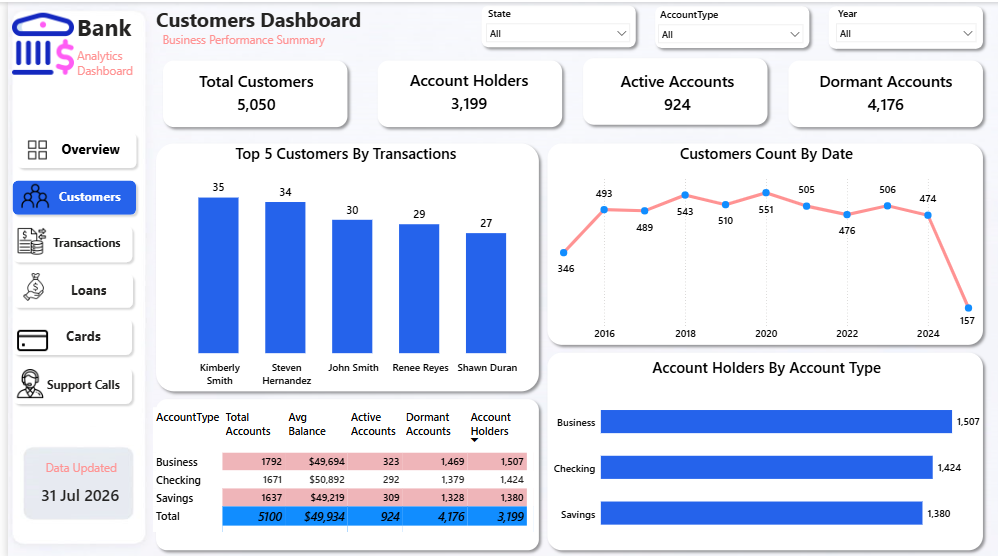

What the dashboard file says about the page in this screenshot:
{"tool":"powerbi","page":{"name":"Customers","canvas":[1600,900],"ordinal":1},"visuals":[{"type":"cardVisual","fields":{"Data":["Calculation Overview.Total Customers"]},"box":[248,85.5,304,118],"z":0},{"type":"shape","box":[0,504,207.3,73.4],"z":0,"group":"g6"},{"type":"cardVisual","fields":{"Data":["Customer calculation.Active Accounts"]},"box":[936,91.5,288,106],"z":1000},{"type":"image","box":[10,522.5,60,50],"z":1000,"group":"g6"},{"type":"cardVisual","fields":{"Data":["Customer calculation.Account Holders"]},"box":[586,89.5,316,110],"z":2000},{"type":"cardVisual","fields":{"Data":["Customer calculation.Dormant Accounts"]},"box":[1260,93.5,312,102],"z":3000},{"type":"barChart","title":"Account Holders By Account Type","fields":{"Y":["Customer calculation.Account Holders"],"Category":["Accounts.AccountType"]},"box":[874,572.9,698.5,309.7],"z":4000},{"type":"lineChart","title":"Customers Count By Date ","fields":{"Y":["Calculation Overview.Total Customers"],"Category":["Calender.Date.Variation.Date Hierarchy.Year","Calender.Date.Variation.Date Hierarchy.Quarter","Calender.Date.Variation.Date Hierarchy.Month","Calender.Date.Variation.Date Hierarchy.Day"]},"box":[874,228,698,328],"z":5000},{"type":"columnChart","title":"Top 5 Customers By Transactions","fields":{"Category":["customers.Full Name"],"Y":["Sum(customers.Num_trans)"]},"box":[234,228,622,400],"z":6000},{"type":"pivotTable","fields":{"Rows":["Accounts.AccountType"],"Values":["Customer calculation.Total Accounts","Customer calculation.Avg Balance","Customer calculation.Active Accounts","Customer calculation.Dormant Accounts","Customer calculation.Account Holders"]},"box":[234,644,622,238],"z":7000},{"type":"slicer","fields":{"Values":["Calender.Year"]},"box":[1326,1,246,74],"z":8000},{"type":"slicer","fields":{"Values":["Accounts.AccountType"]},"box":[1038,4,254,68],"z":9000},{"type":"slicer","fields":{"Values":["customers.State"]},"box":[762,1,252,74],"z":10000},{"type":"textbox","box":[234,0,408,86],"z":11000},{"type":"cardVisual","fields":{"Data":["Customer Service.Today"]},"box":[24,756,196,72],"z":12000},{"type":"textbox","box":[106,68,108,76],"z":13000},{"type":"textbox","box":[106,10,108,66],"z":14000},{"type":"textbox","box":[42,732,152,46],"z":15000},{"type":"group","id":"g1","title":"Group 1","box":[6,204,208,72],"z":16000},{"type":"group","id":"g2","title":"Group 1","box":[0,280,214,70],"z":17000},{"type":"group","id":"g3","title":"Group 1","box":[0,353.6,208,74],"z":18000},{"type":"group","id":"g4","title":"Group 1","box":[2,430.8,208,70],"z":19000},{"type":"group","id":"g5","title":"Group 1","box":[0,582,208,72],"z":20000},{"type":"image","box":[6,12,100,112],"z":21000},{"type":"group","id":"g6","title":"Group 2","box":[0,504,208,74],"z":22000},{"type":"shape","box":[6,204,208,72],"z":23000,"group":"g1"},{"type":"shape","box":[0,280,214,70],"z":23000,"group":"g2"},{"type":"shape","box":[0,353.6,207.8,73.9],"z":23000,"group":"g3"},{"type":"shape","box":[2,430.8,207.3,70],"z":23000,"group":"g4"},{"type":"shape","box":[0,582,207.3,73.4],"z":23000,"group":"g5"},{"type":"image","box":[19.9,217.6,53.5,44.8],"z":24000,"group":"g1"},{"type":"image","box":[19.6,290.1,48.3,44.8],"z":24000,"group":"g2"},{"type":"image","box":[13.9,362.9,48.8,46.2],"z":24000,"group":"g3"},{"type":"image","box":[14.5,437.2,52.4,44.9],"z":24000,"group":"g4"},{"type":"image","box":[11.8,592.2,49.5,47],"z":24000,"group":"g5"}]}

Visuals, with their boxes on the page's 1600x900 design canvas (x1, y1, x2, y2). These are canvas units, not pixel positions in the 998x556 screenshot, which may show the page scaled, cropped or inside an application window:
cardVisual - Calculation Overview.Total Customers: <bbox>248, 86, 552, 204</bbox>
shape: <bbox>0, 504, 207, 577</bbox>
cardVisual - Customer calculation.Active Accounts: <bbox>936, 92, 1224, 198</bbox>
image: <bbox>10, 522, 70, 572</bbox>
cardVisual - Customer calculation.Account Holders: <bbox>586, 90, 902, 200</bbox>
cardVisual - Customer calculation.Dormant Accounts: <bbox>1260, 94, 1572, 196</bbox>
"Account Holders By Account Type" barChart: <bbox>874, 573, 1572, 883</bbox>
"Customers Count By Date " lineChart: <bbox>874, 228, 1572, 556</bbox>
"Top 5 Customers By Transactions" columnChart: <bbox>234, 228, 856, 628</bbox>
pivotTable - Accounts.AccountType x Customer calculation.Total Accounts: <bbox>234, 644, 856, 882</bbox>
slicer - Calender.Year: <bbox>1326, 1, 1572, 75</bbox>
slicer - Accounts.AccountType: <bbox>1038, 4, 1292, 72</bbox>
slicer - customers.State: <bbox>762, 1, 1014, 75</bbox>
textbox: <bbox>234, 0, 642, 86</bbox>
cardVisual - Customer Service.Today: <bbox>24, 756, 220, 828</bbox>
textbox: <bbox>106, 68, 214, 144</bbox>
textbox: <bbox>106, 10, 214, 76</bbox>
textbox: <bbox>42, 732, 194, 778</bbox>
"Group 1" group: <bbox>6, 204, 214, 276</bbox>
"Group 1" group: <bbox>0, 280, 214, 350</bbox>
"Group 1" group: <bbox>0, 354, 208, 428</bbox>
"Group 1" group: <bbox>2, 431, 210, 501</bbox>
"Group 1" group: <bbox>0, 582, 208, 654</bbox>
image: <bbox>6, 12, 106, 124</bbox>
"Group 2" group: <bbox>0, 504, 208, 578</bbox>
shape: <bbox>6, 204, 214, 276</bbox>
shape: <bbox>0, 280, 214, 350</bbox>
shape: <bbox>0, 354, 208, 428</bbox>
shape: <bbox>2, 431, 209, 501</bbox>
shape: <bbox>0, 582, 207, 655</bbox>
image: <bbox>20, 218, 73, 262</bbox>
image: <bbox>20, 290, 68, 335</bbox>
image: <bbox>14, 363, 63, 409</bbox>
image: <bbox>14, 437, 67, 482</bbox>
image: <bbox>12, 592, 61, 639</bbox>
